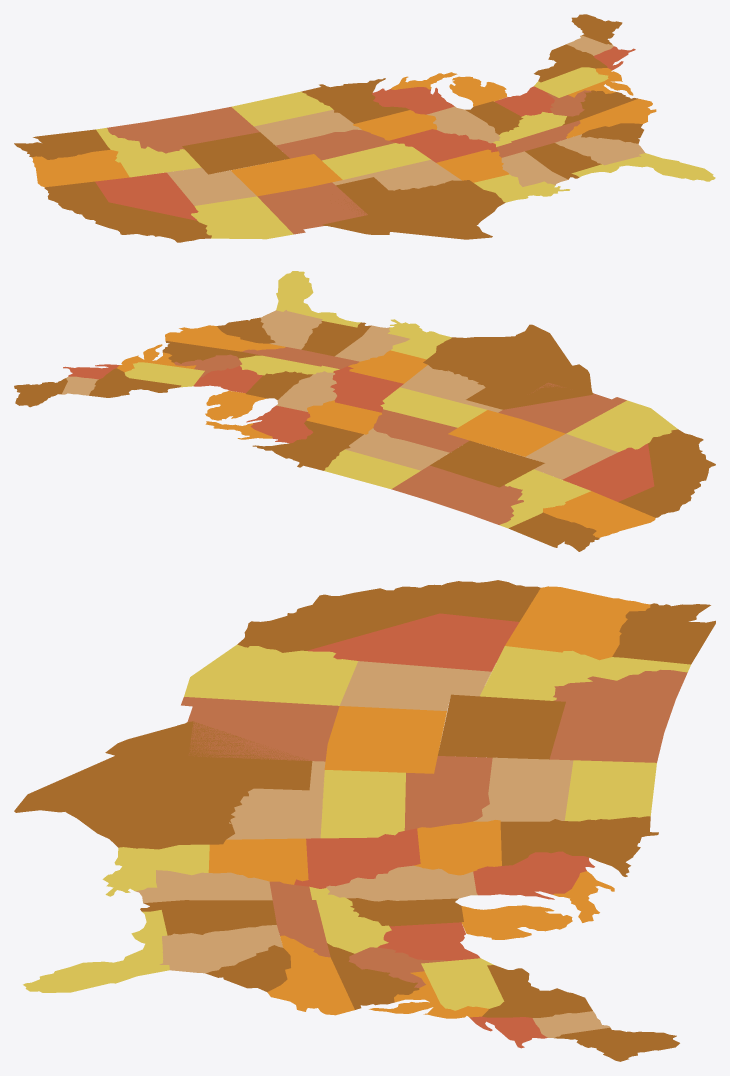
File: USA_Map_BigUV.fbx
The picture shows the model from 3 angles, top to bottom: view 1: azimuth 30°, elevation 25°; view 2: azimuth 150°, elevation 25°; view 3: azimuth 270°, elevation 25°; orthographic projection. The views are drawn at different scales.
Parts seen in each view (by area): view 1: Texas.004, California.004, Montana.004, New Mexico.004, Arizona.004, Nevada.004, Colorado.004, Wyoming.004, Oregon.005, Idaho.004, Minnesota.004, Kansas.004 (+32 smaller); view 2: Texas.004, California.004, Montana.004, Arizona.004, Nevada.004, Colorado.004, Wyoming.004, Oregon.005, New Mexico.004, Idaho.004, Minnesota.004, Kansas.004 (+32 smaller); view 3: Texas.004, California.004, Montana.004, New Mexico.004, Arizona.004, Nevada.004, Colorado.004, Wyoming.004, Oregon.005, Idaho.004, Minnesota.004, Utah.004 (+32 smaller).
Part boxes in pixels (x1,y1,x2,y2): Texas.004: [322, 177, 505, 239]; California.004: [44, 181, 211, 242]; Montana.004: [107, 107, 259, 153]; New Mexico.004: [257, 182, 367, 234]; Arizona.004: [191, 196, 293, 239]; Nevada.004: [95, 172, 198, 220]; Colorado.004: [231, 154, 342, 196]; Wyoming.004: [182, 132, 289, 174]; Oregon.005: [32, 149, 129, 187]; Idaho.004: [96, 128, 201, 177]; Minnesota.004: [301, 78, 409, 123]; Kansas.004: [322, 143, 430, 179]; Texas.004: [423, 324, 593, 409]; California.004: [618, 429, 715, 517]; Montana.004: [391, 465, 523, 524]; Arizona.004: [566, 400, 677, 452]; Nevada.004: [562, 443, 654, 501]; Colorado.004: [448, 410, 565, 456]; Wyoming.004: [430, 440, 544, 487]; Oregon.005: [543, 491, 655, 537]; New Mexico.004: [498, 382, 626, 433]; Idaho.004: [499, 469, 590, 528]; Minnesota.004: [252, 420, 363, 470]; Kansas.004: [380, 387, 486, 427]; Texas.004: [14, 721, 312, 849]; California.004: [237, 580, 540, 652]; Montana.004: [549, 669, 687, 762]; New Mexico.004: [181, 697, 339, 761]; Arizona.004: [184, 644, 357, 705]; Nevada.004: [307, 613, 519, 671]; Colorado.004: [324, 706, 446, 773]; Wyoming.004: [438, 694, 565, 759]; Oregon.005: [505, 586, 650, 660]; Idaho.004: [480, 646, 690, 700]; Minnesota.004: [500, 816, 658, 876]; Utah.004: [339, 661, 491, 710].
Bounding box in the file's own units: 931 × 1.43e-06 × 573.
